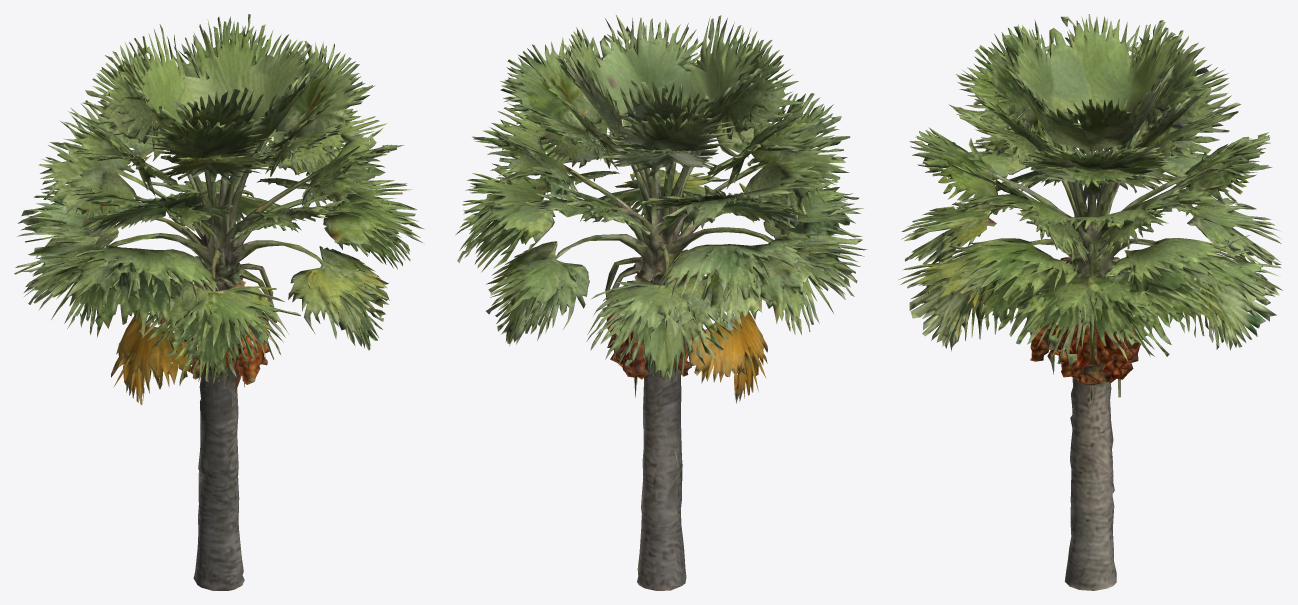
File: moriche_palm.glb
3 renders of one model, left to right at view 1: azimuth 30°, elevation 25°; view 2: azimuth 150°, elevation 25°; view 3: azimuth 270°, elevation 25°, orthographic.
Visible parts, largest first — view 1: lod0; view 2: lod0; view 3: lod0.
Part boxes in pixels (x1,y1,x2,y2): lod0: [14, 14, 424, 590]; lod0: [455, 15, 867, 590]; lod0: [898, 14, 1282, 590].
Size of what is drawn, in the model's own units: 4.31 by 5.75 by 3.77.
Materials: 1 (1 with a texture image).
